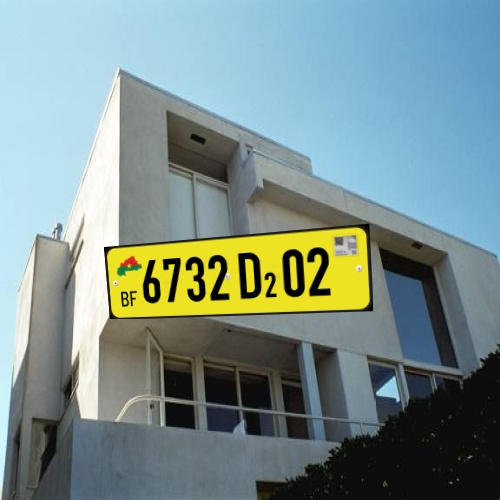plate: (93, 219, 387, 327)
